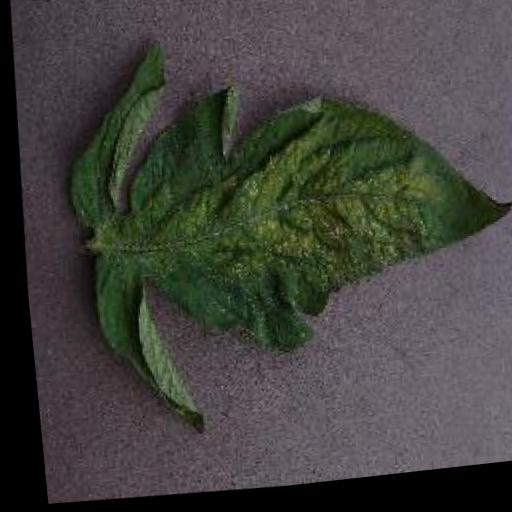Spider Mites: (43, 9, 512, 453)
